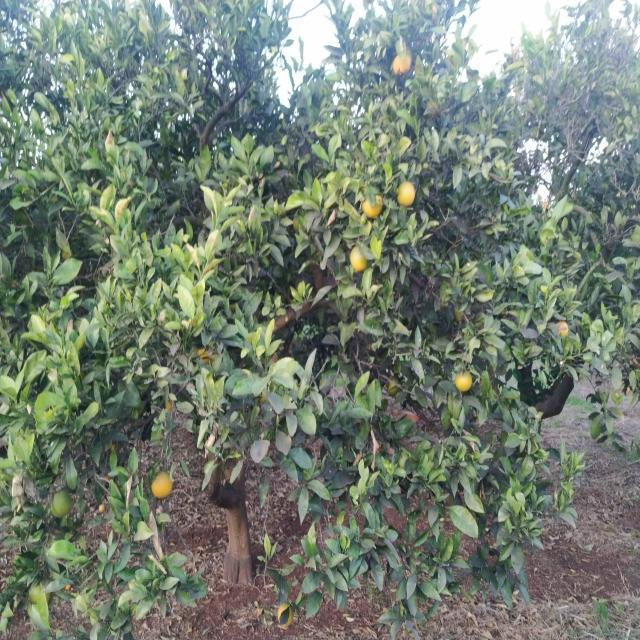Jeruk Belum Matang: (51, 491, 72, 516)
Jeruk Sudah Matang: (152, 472, 174, 500), (360, 194, 382, 218), (396, 182, 416, 206), (350, 244, 367, 270), (455, 369, 473, 392), (393, 54, 412, 74), (279, 604, 294, 626), (555, 320, 569, 340)
